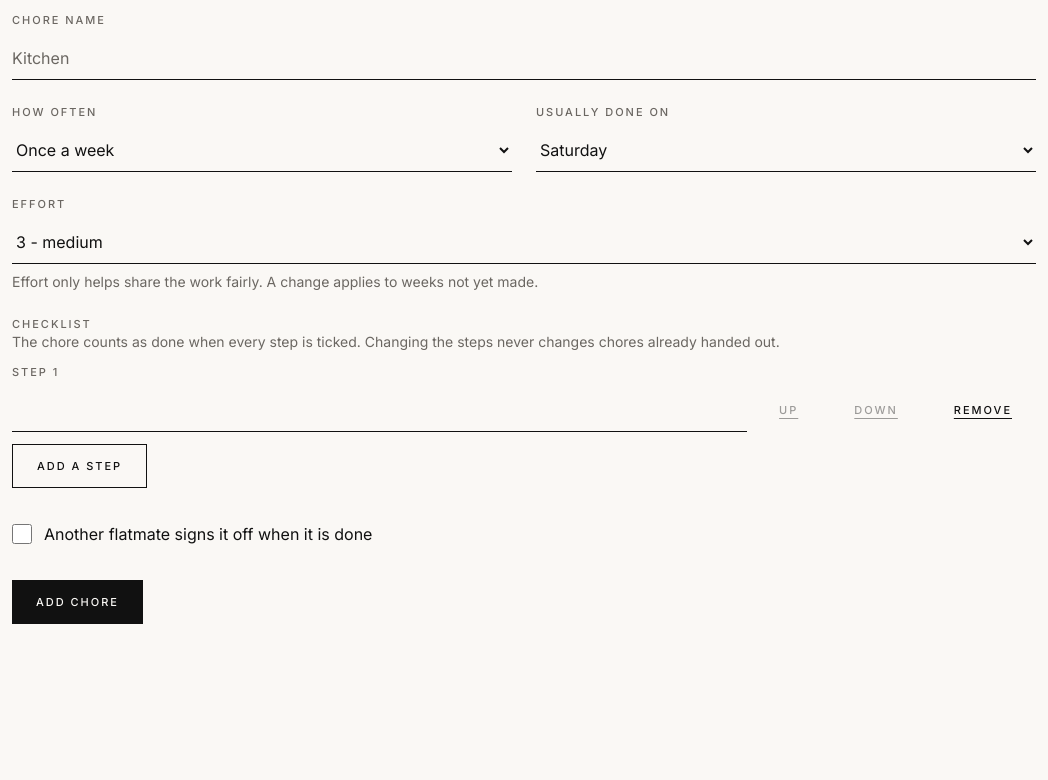
Test: ChoreForm › swaps the day for a number of days when the cadence changes
Select "Every few days" in the dropdown labelled "How often" at (262, 150), box x1=12 y1=128 x2=512 y2=172
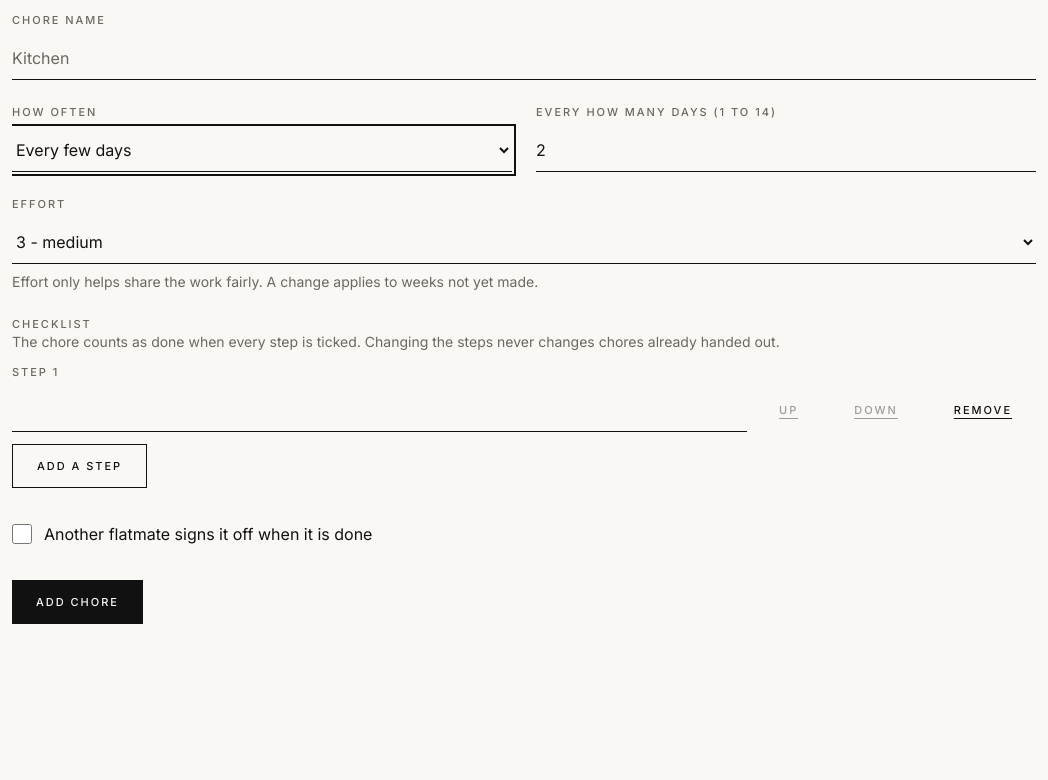
Now the label labelled "Usually done on" is gone
